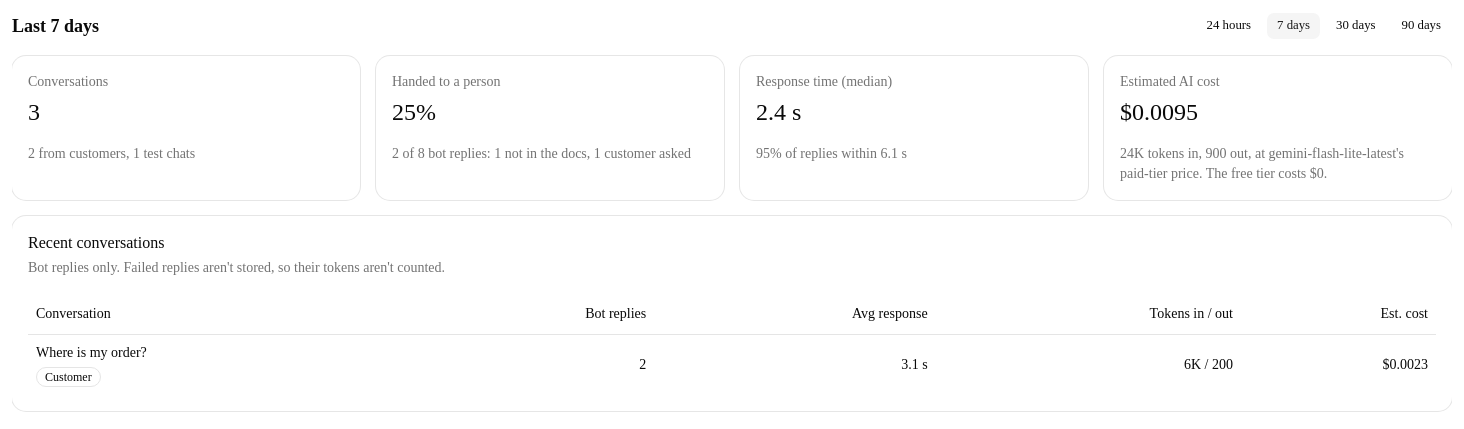
Test case: MetricsOverview › asks the API for another period when one is picked
expect the text "2.4 s" is shown: met, box [756, 99, 801, 125]
Click the button "30 days" at (1356, 26), box [1325, 12, 1387, 40]
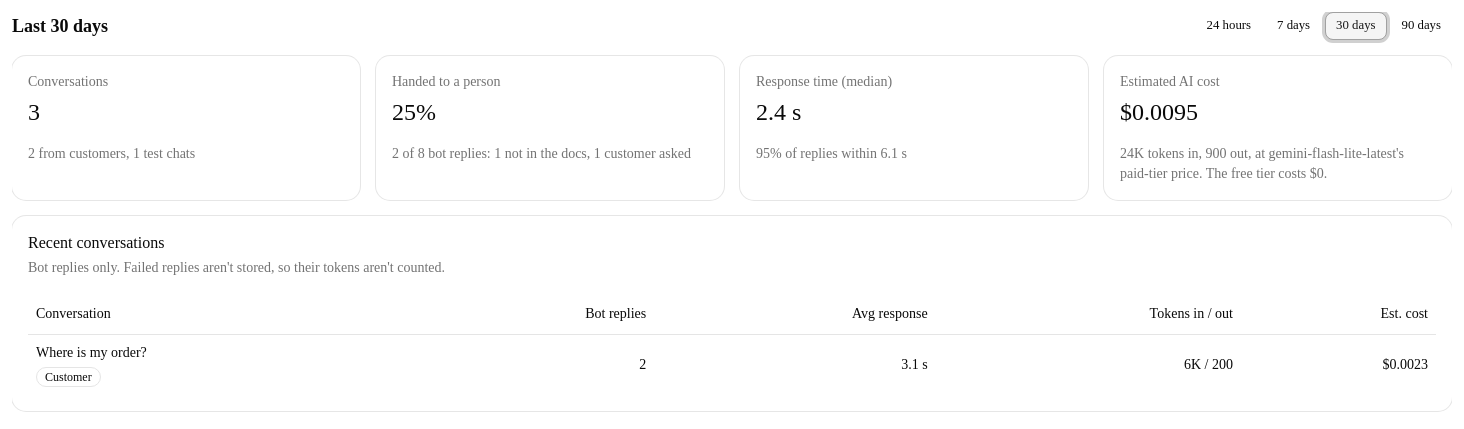
expect the heading "Last 30 days" is shown: met, box [12, 12, 108, 40]
